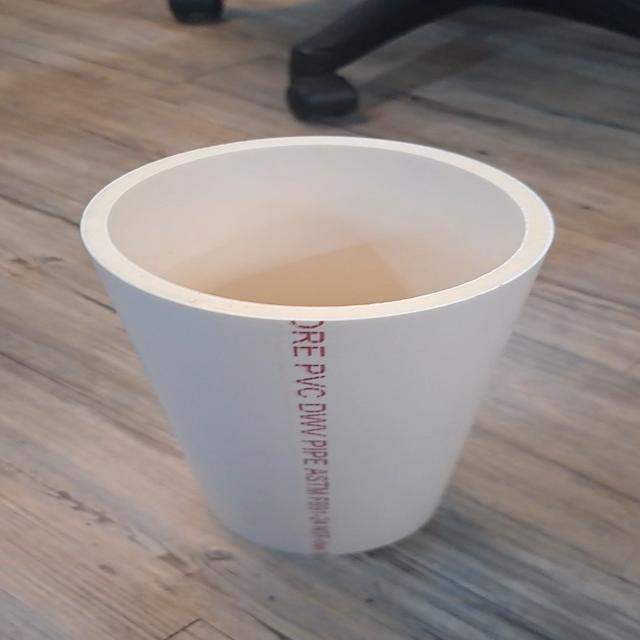CORAL: (78, 132, 537, 564)
